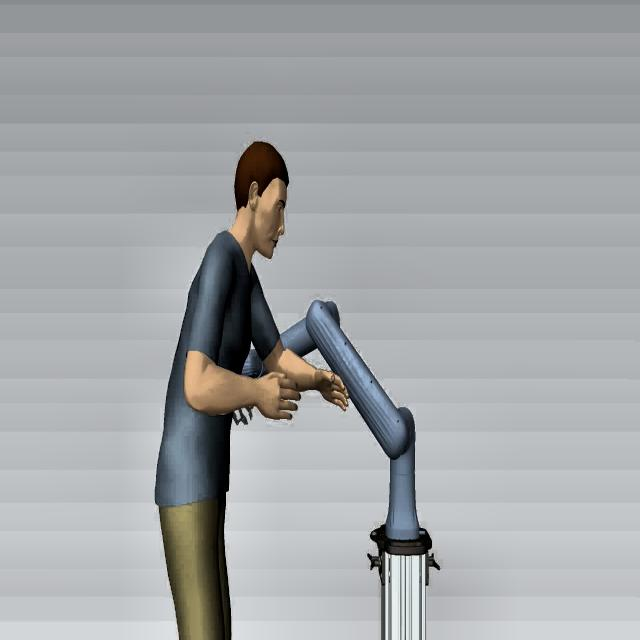robot: (235, 296, 441, 561)
